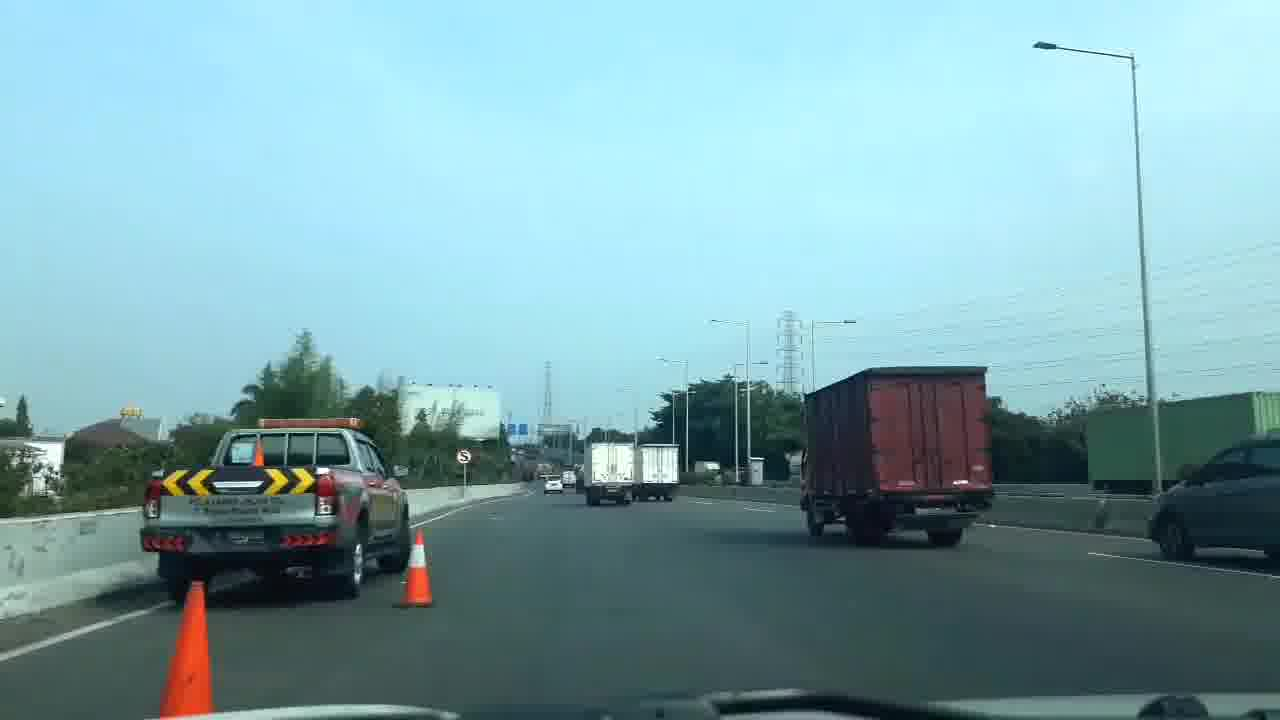plate_positive: (914, 506, 956, 517)
